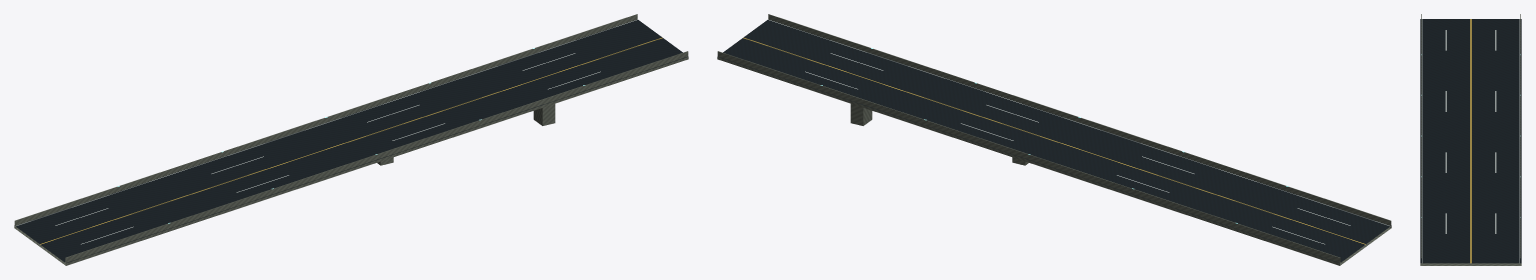
File: elevated_ramp_4lane_100m_LOD0.glb
3 renders of one model, left to right at view 1: azimuth 30°, elevation 25°; view 2: azimuth 150°, elevation 25°; view 3: azimuth 270°, elevation 25°, orthographic.
Visible parts, largest first — view 1: elevated_ramp_4lane_100m__deck, elevated_ramp_4lane_100m__pier; view 2: elevated_ramp_4lane_100m__deck, elevated_ramp_4lane_100m__pier; view 3: elevated_ramp_4lane_100m__deck.
Part boxes in pixels (x1,y1,x2,y2): elevated_ramp_4lane_100m__deck: (14, 14, 688, 265); elevated_ramp_4lane_100m__pier: (377, 104, 555, 165); elevated_ramp_4lane_100m__deck: (717, 14, 1391, 265); elevated_ramp_4lane_100m__pier: (850, 104, 1028, 165); elevated_ramp_4lane_100m__deck: (1420, 14, 1521, 265).
Bounding box in the file's own units: 100 × 9.58 × 14.4.
Materials: 5 (2 with a texture image).
